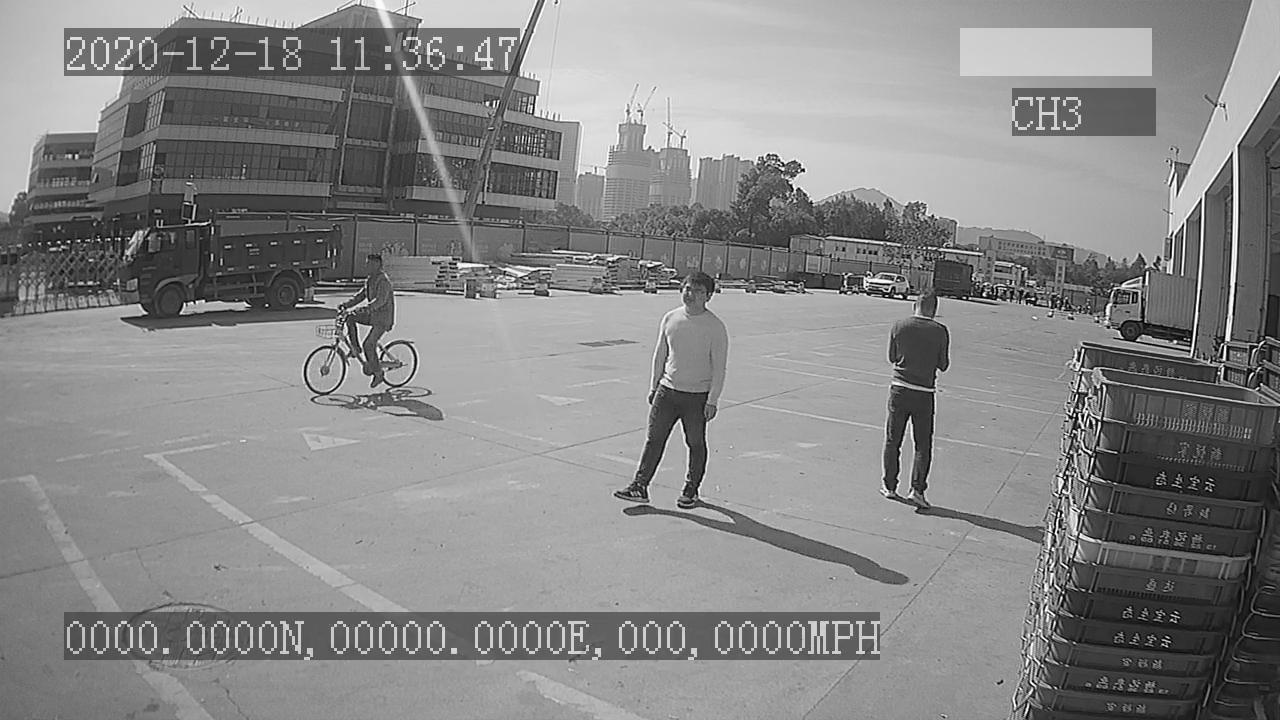person: (613, 267, 736, 515), (880, 290, 949, 507)
